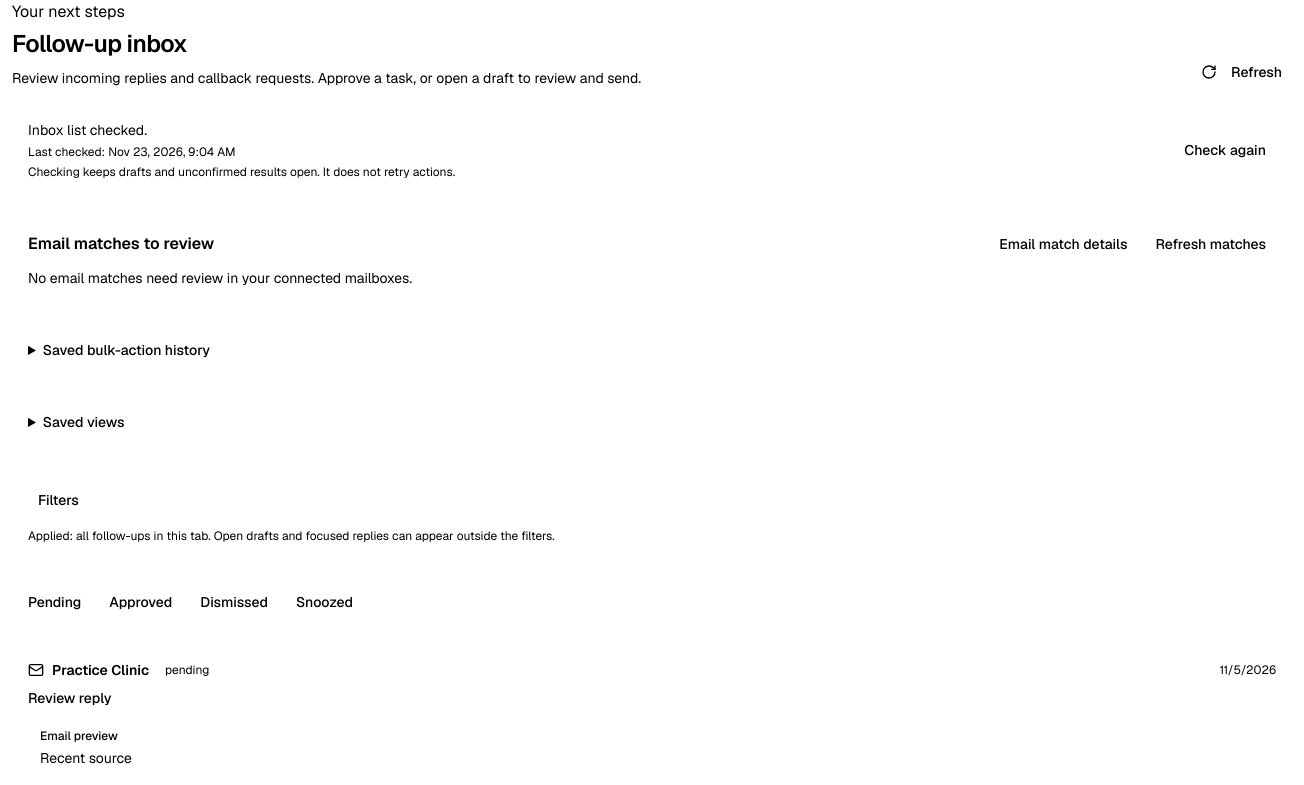
clears private search fields when a filtered response belongs to a different actor
Check: the text "Recent source" is shown, box x1=40 y1=749 x2=132 y2=767
Click the button "Filters".
click(58, 500)  # box x1=28 y1=484 x2=89 y2=516
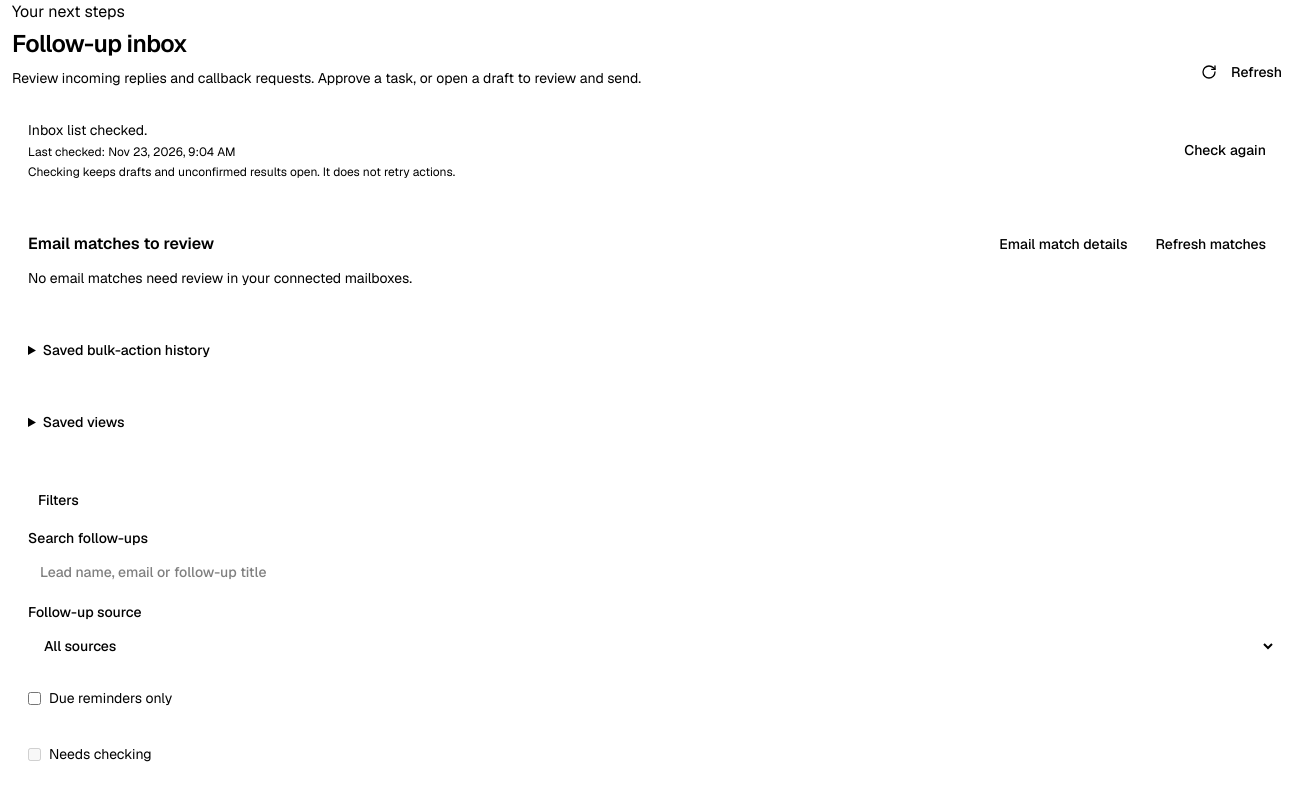
Type "Private search" into the search field labelled "Search follow-ups".
click(652, 572); type("Private search")  # box x1=28 y1=554 x2=1276 y2=590
(page scrolled)
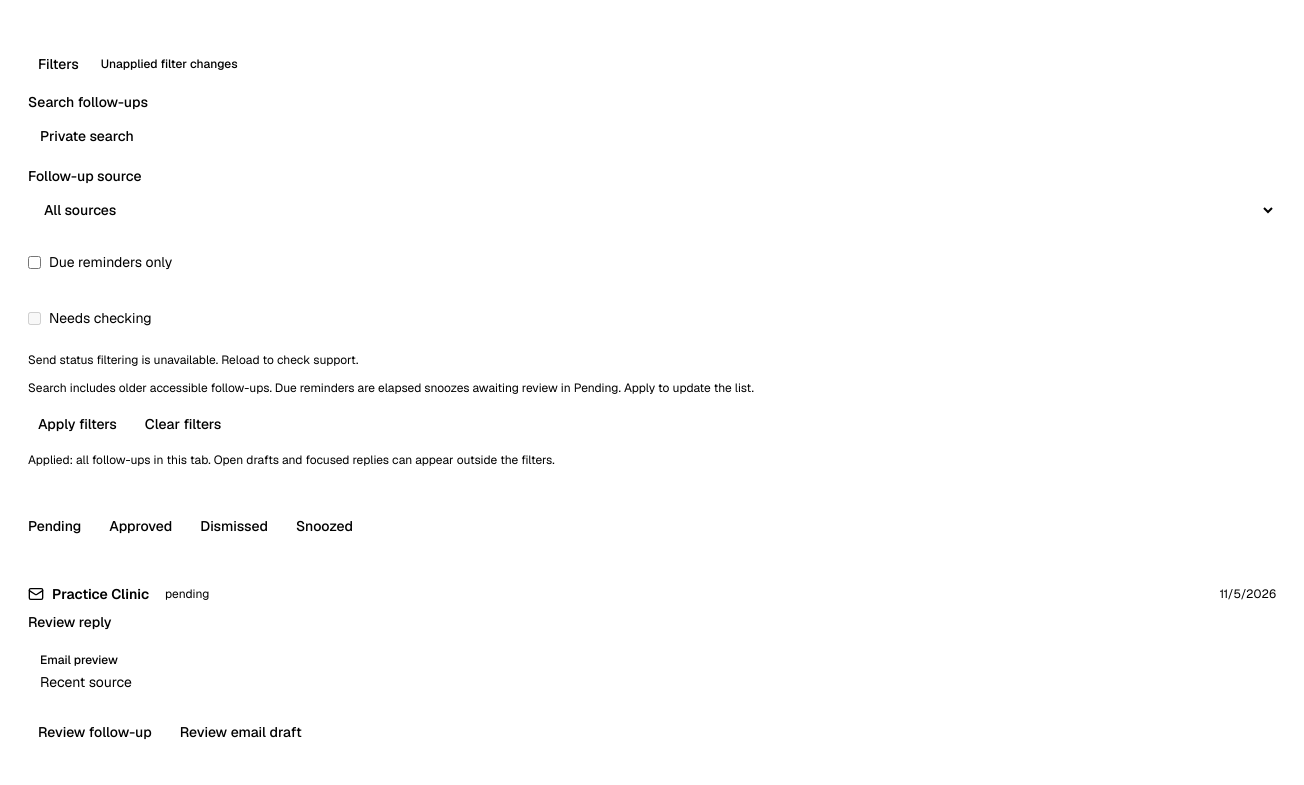
Click the button "Apply filters".
click(77, 424)  # box x1=28 y1=408 x2=127 y2=440
(page scrolled)
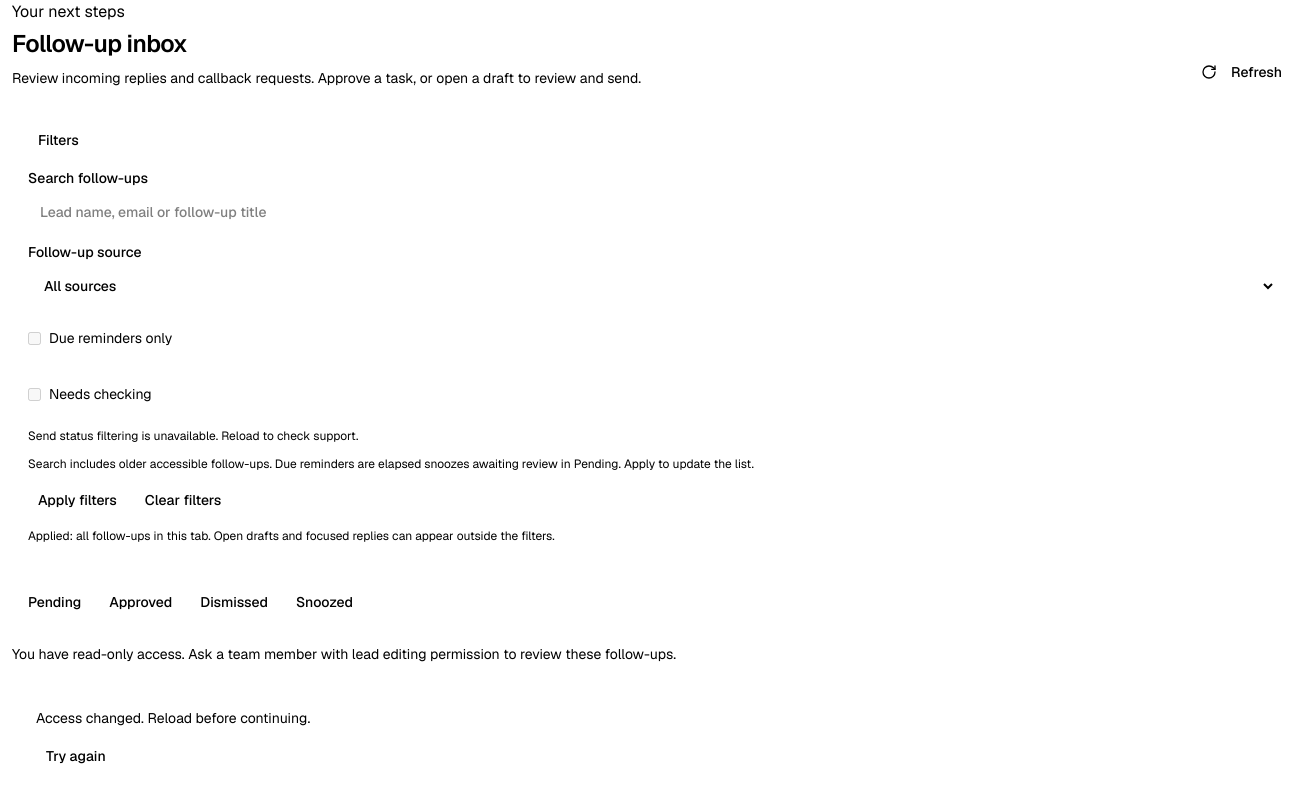
Check: the text "Access changed. Reload before continuing." is shown, box x1=36 y1=709 x2=310 y2=727
Check: the search field labelled "Search follow-ups" is empty, box x1=28 y1=194 x2=1276 y2=230
Check: the text "Recent source" is gone
